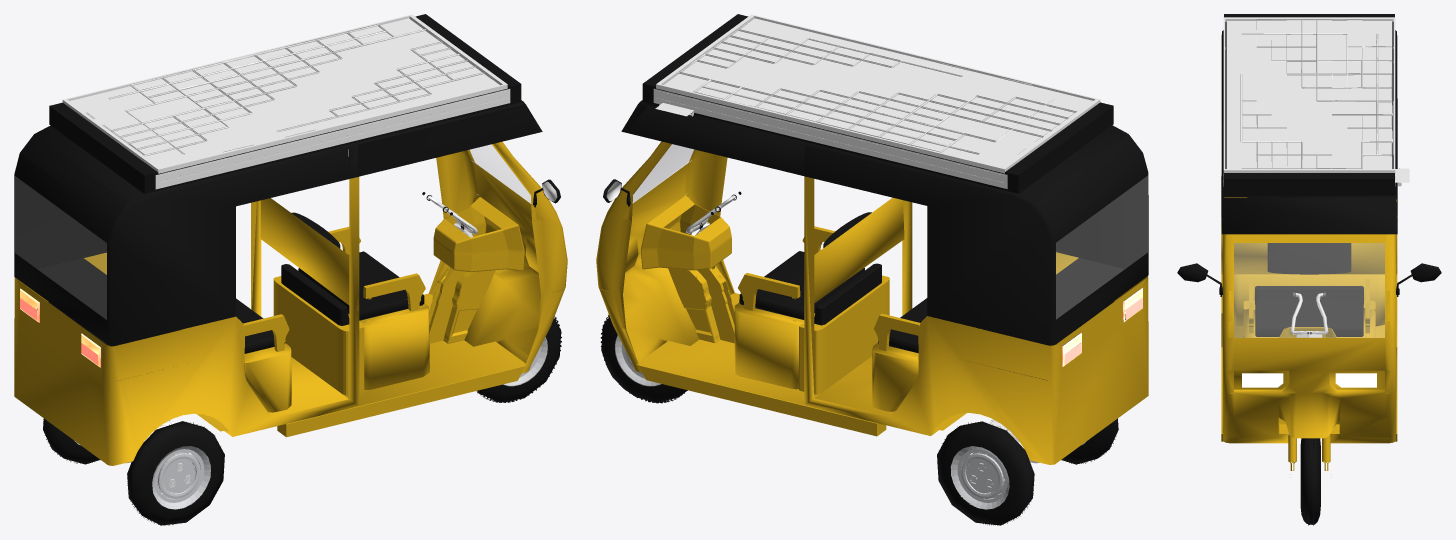
File: keke-ride.glb
3 views of the same model, side by side, from view 1: azimuth 30°, elevation 25°; view 2: azimuth 150°, elevation 25°; view 3: azimuth 270°, elevation 25° (orthographic). The views are drawn at different scales.
Visible parts, largest first — view 1: keke, wheel_rear, wheel_front; view 2: keke, wheel_rear, wheel_front; view 3: keke, wheel_front.
Boxes of the visible parts, x1,y1,x2,y2 form: keke: [14, 14, 567, 465]; wheel_rear: [43, 418, 224, 525]; wheel_front: [476, 316, 561, 402]; keke: [596, 14, 1148, 464]; wheel_rear: [937, 418, 1118, 525]; wheel_front: [600, 314, 687, 403]; keke: [1177, 14, 1441, 470]; wheel_front: [1289, 438, 1332, 525].
Size of the model in its own units: 1.9 by 1.32 by 0.9655.
